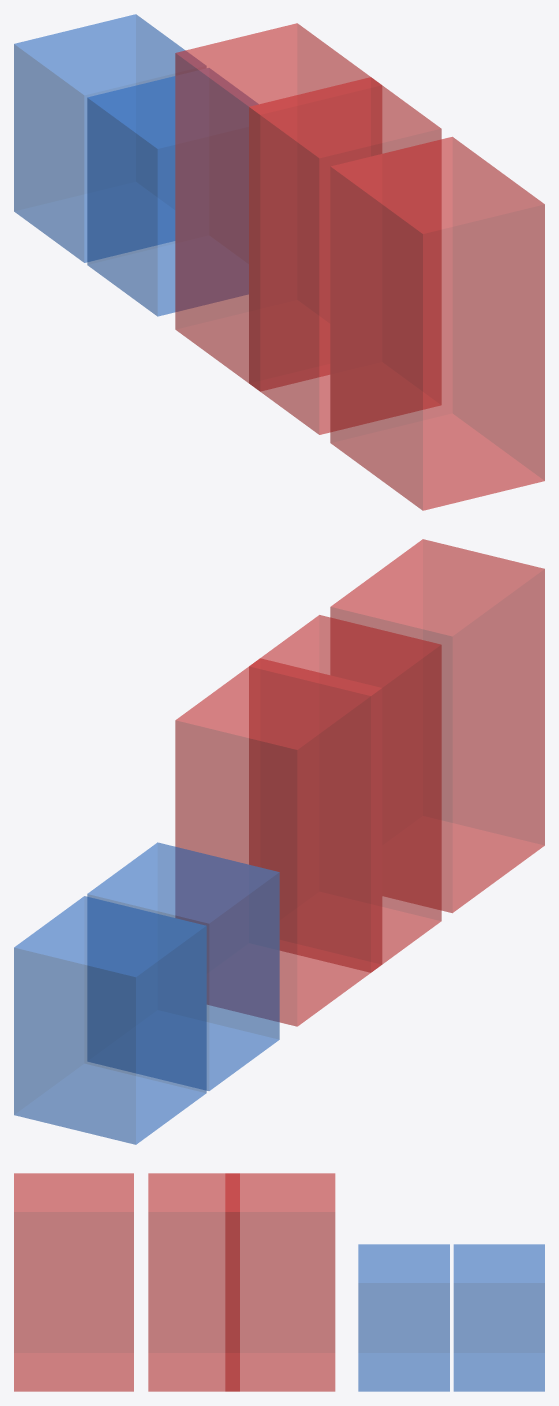
Rendered from home_02_zones.obj.
3 renders of one model, top to bottom at view 1: azimuth 30°, elevation 25°; view 2: azimuth 150°, elevation 25°; view 3: azimuth 270°, elevation 25°, orthographic. The views are drawn at different scales.
Visible parts, largest first — view 1: meter_panel_working_space, inverter_vlld_wall_space, base_hub_wall_space, base_core_2_footprint, base_core_1_footprint; view 2: inverter_vlld_wall_space, meter_panel_working_space, base_hub_wall_space, base_core_2_footprint, base_core_1_footprint; view 3: meter_panel_working_space, inverter_vlld_wall_space, base_hub_wall_space, base_core_1_footprint, base_core_2_footprint.
Part boxes in pixels (x1,y1,x2,y2): meter_panel_working_space: (330,137,544,510); inverter_vlld_wall_space: (175,23,381,391); base_hub_wall_space: (249,77,441,434); base_core_2_footprint: (14,14,206,262); base_core_1_footprint: (87,68,257,316); inverter_vlld_wall_space: (175,658,382,1026); meter_panel_working_space: (330,539,544,912); base_hub_wall_space: (249,615,441,972); base_core_2_footprint: (14,896,206,1144); base_core_1_footprint: (87,842,279,1090); meter_panel_working_space: (14,1173,133,1391); inverter_vlld_wall_space: (225,1173,335,1391); base_hub_wall_space: (148,1173,239,1391); base_core_1_footprint: (358,1244,449,1391); base_core_2_footprint: (453,1244,544,1391).
Size of the model in its own units: 0.9144 by 1.98 by 5.31.
